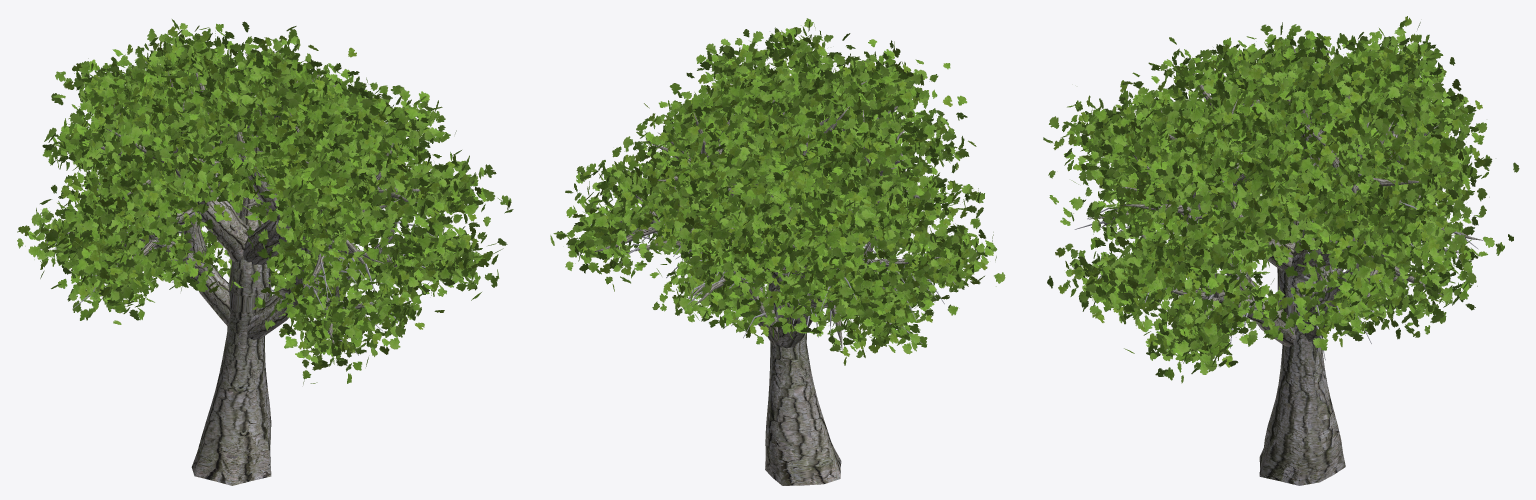
Rendered from linden_easytree_v022.glb.
3 renders of one model, left to right at view 1: azimuth 30°, elevation 25°; view 2: azimuth 150°, elevation 25°; view 3: azimuth 270°, elevation 25°, orthographic. The views are drawn at different scales.
Parts seen in each view (by area): view 1: Tilo foliage cards, Tilo_EasyTree_V022_Proof, Tilo V022 delicate lower branches; view 2: Tilo foliage cards, Tilo_EasyTree_V022_Proof, Tilo V022 delicate lower branches; view 3: Tilo foliage cards, Tilo_EasyTree_V022_Proof, Tilo V022 delicate lower branches.
Boxes of the visible parts, x1=… form: Tilo foliage cards: x1=17, y1=19, x2=513, y2=384; Tilo_EasyTree_V022_Proof: x1=68, y1=53, x2=420, y2=485; Tilo V022 delicate lower branches: x1=40, y1=188, x2=435, y2=355; Tilo foliage cards: x1=550, y1=18, x2=1005, y2=365; Tilo_EasyTree_V022_Proof: x1=594, y1=57, x2=940, y2=485; Tilo V022 delicate lower branches: x1=619, y1=171, x2=955, y2=343; Tilo foliage cards: x1=1043, y1=16, x2=1519, y2=383; Tilo_EasyTree_V022_Proof: x1=1089, y1=44, x2=1483, y2=485; Tilo V022 delicate lower branches: x1=1074, y1=201, x2=1478, y2=360.
Bounding box in the file's own units: 6.17 × 5.75 × 5.92.
2 materials, 2 textured.
